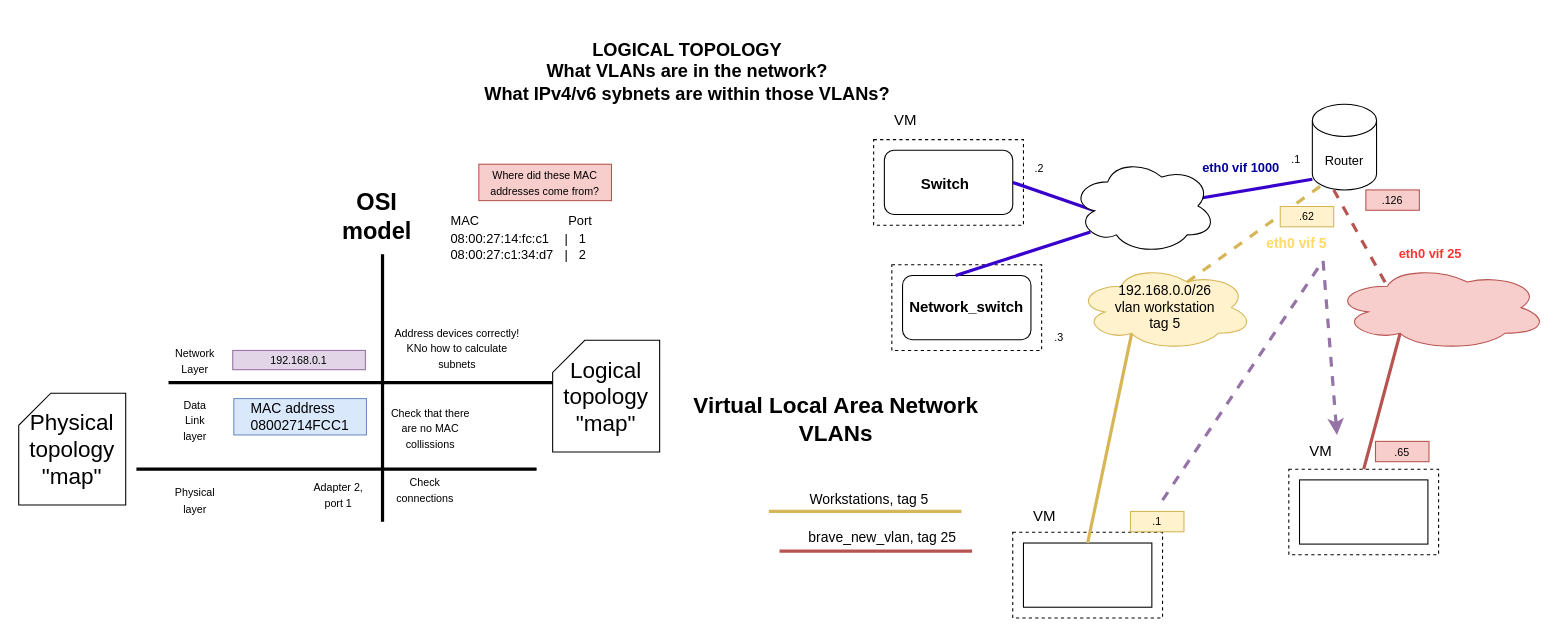
Image size: 1566x637. Some labels were removed from this diagram. The shapes that lost their labels are listed below. From the top down, each one's centre as x and y in pixels, then its label:
(1143,205): 10.10.08.0/28 vlan network_devices tag 1000
(1440,307): 192.168.0.64/26 vlan "brave_new_vlan" tag 25
(1363,511): Lubuntu 2
(1087,574): Lubuntu
